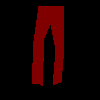abbigliamento_uomo: (31, 5, 64, 86)
